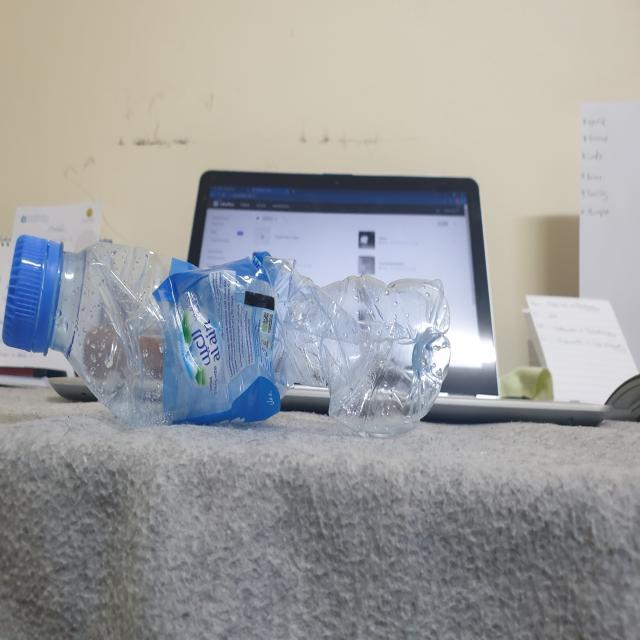plastic: (8, 235, 448, 433)
